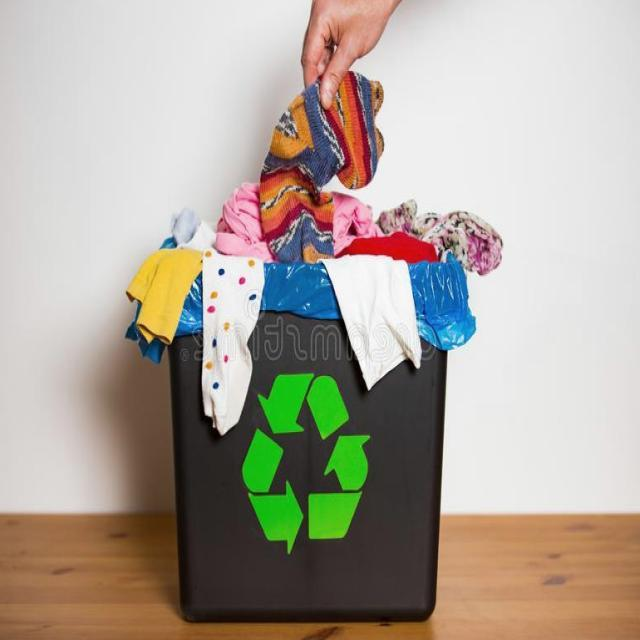clothes: (250, 93, 392, 299)
